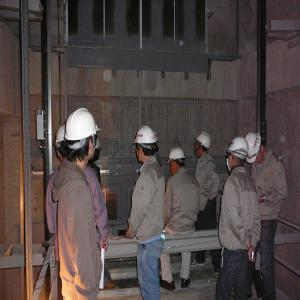white: (67, 107, 100, 165), (135, 127, 157, 165), (227, 137, 249, 172), (246, 132, 268, 167), (56, 124, 73, 162), (168, 146, 188, 177), (193, 133, 211, 158)
